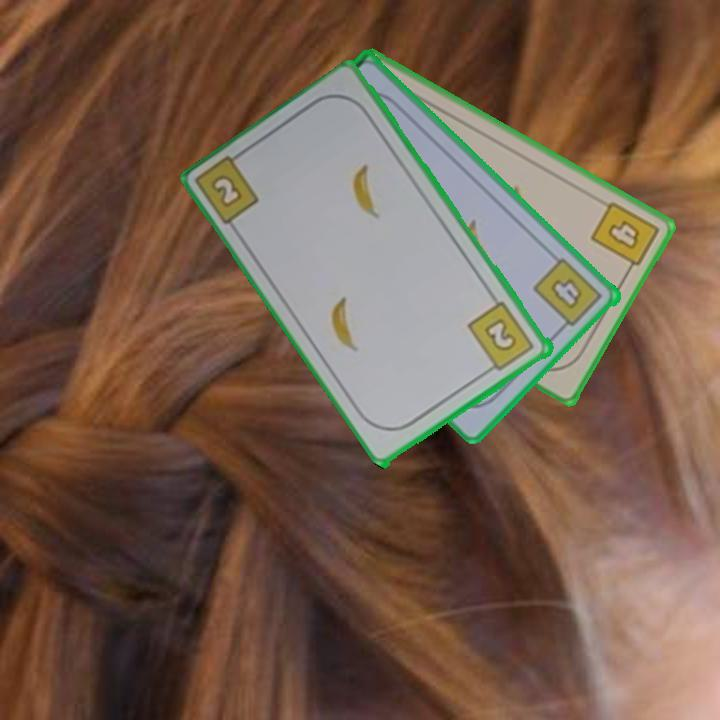2b: (464, 298, 538, 377), (211, 174, 247, 211)
4b: (530, 254, 607, 335), (587, 197, 662, 278)
